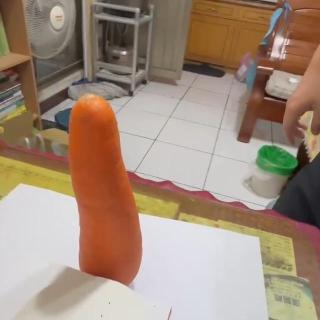carrot: (68, 93, 144, 287)
